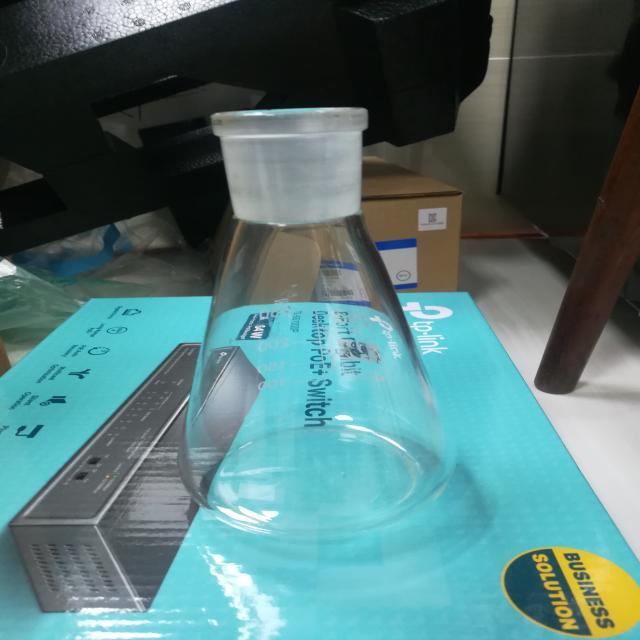Conical_Flask: (110, 67, 495, 576)
